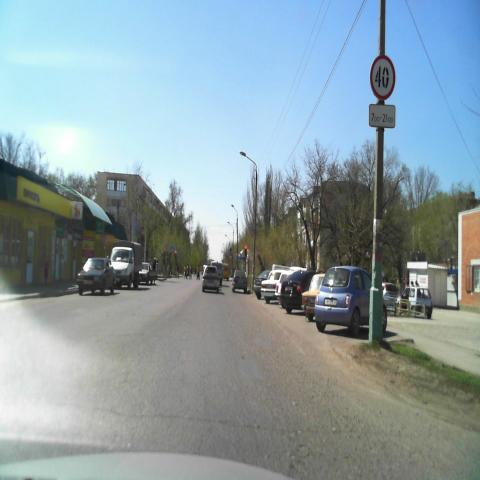8_5_4: (368, 104, 395, 128)
